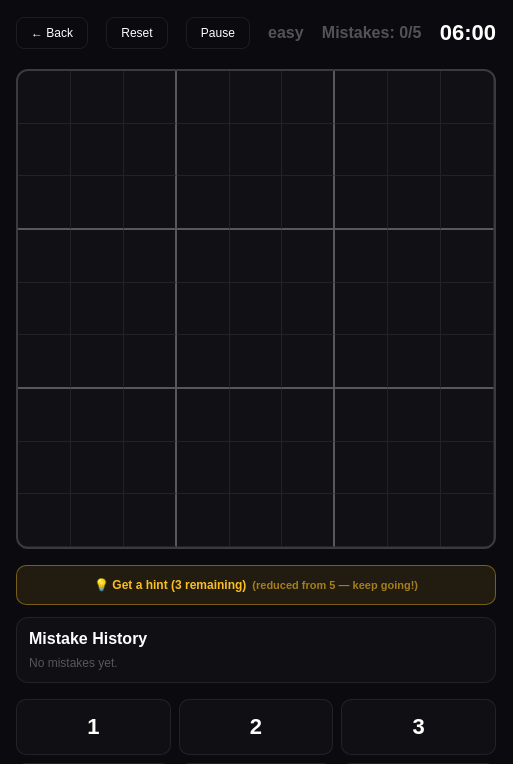
SCRUM-37: Adaptive hints reduce over time › Hint count resets when game resets › Easy: hints restore to 5 after reset
Check: the button "💡 Get a hint (3 remaining)(reduced from 5 — keep going!)" is shown, box [16,565,496,605]
# Reset the game
What coordinates should you click on to do the following:
click the button "Reset"
I would click on:
 (137, 33)
Its box is [106,17,168,49].
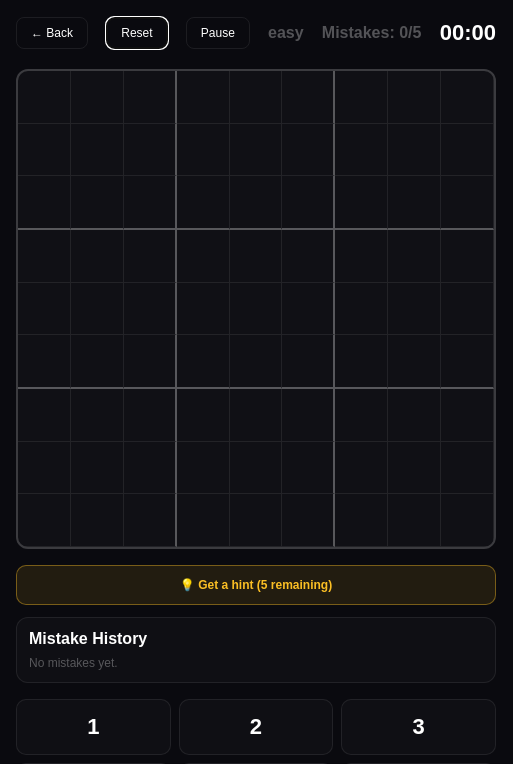
Check: the button "💡 Get a hint (5 remaining)" is shown, box [16,565,496,605]
